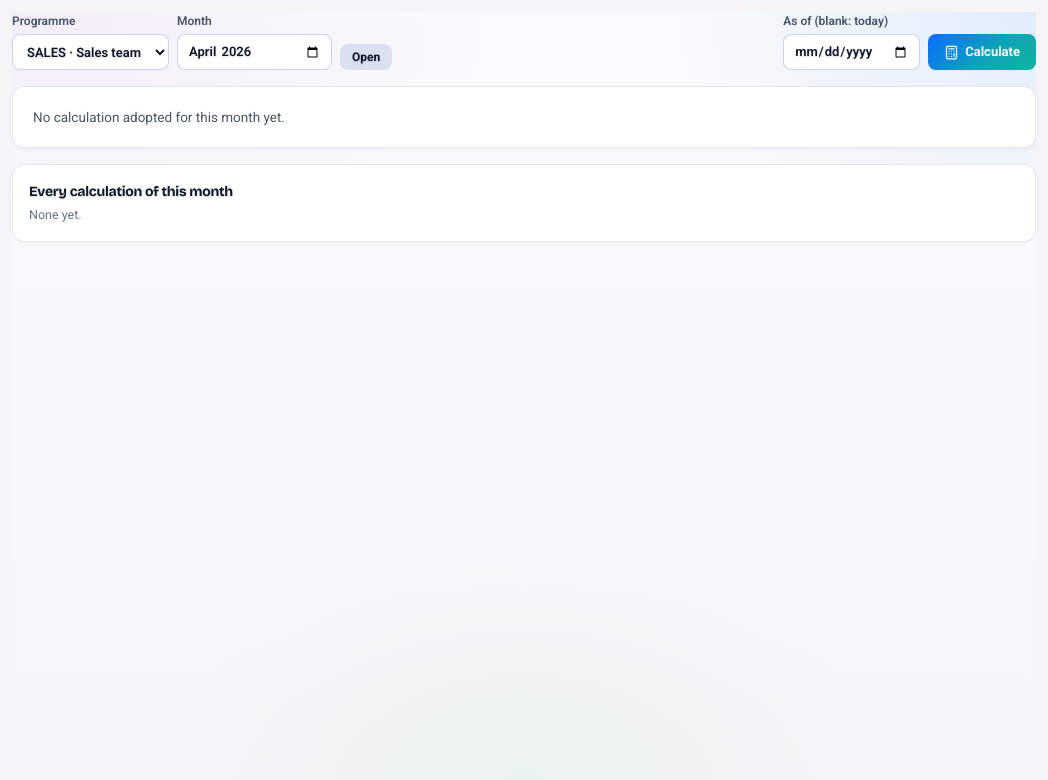
it: Category A calculation screen › shows why a calculation was blocked
Click the button "Calculate" at [982, 52], box [928,34,1036,70]
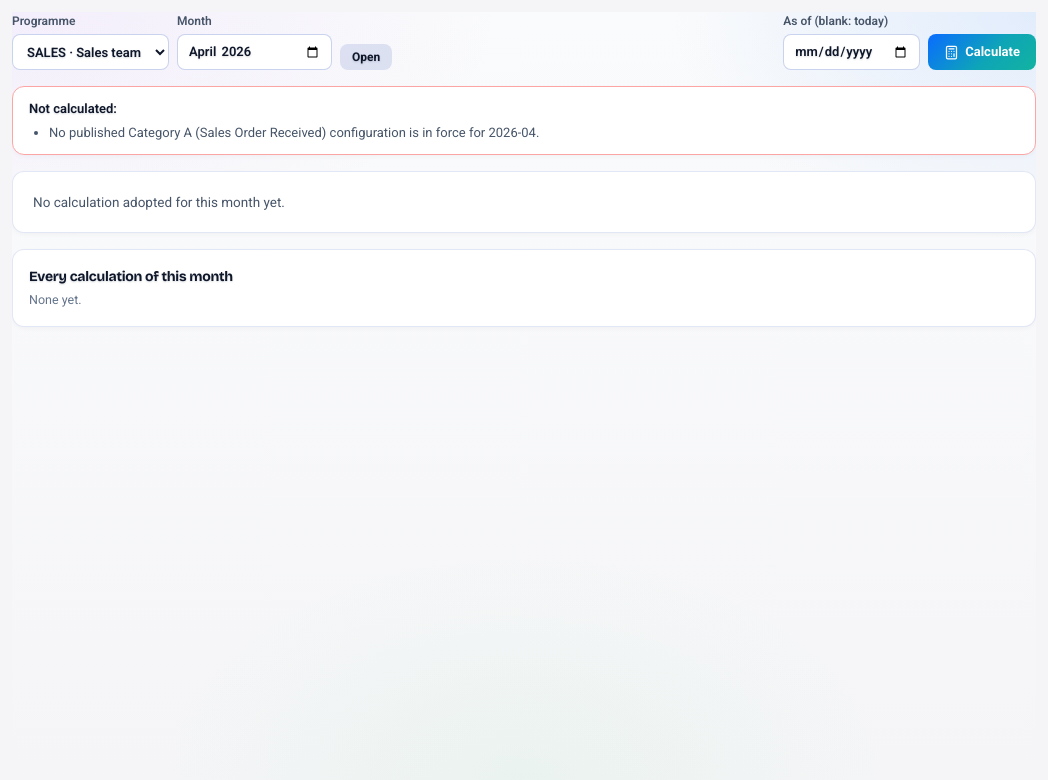
Expected: the message shows "No published Category A", [49,124,539,140]
